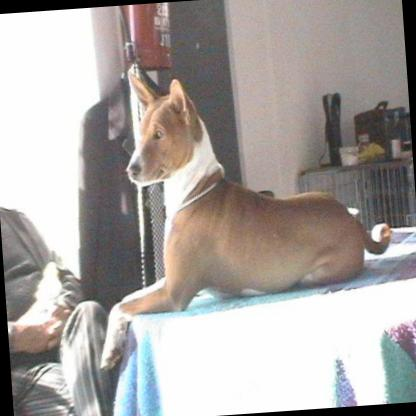basenji: (77, 56, 398, 370)
